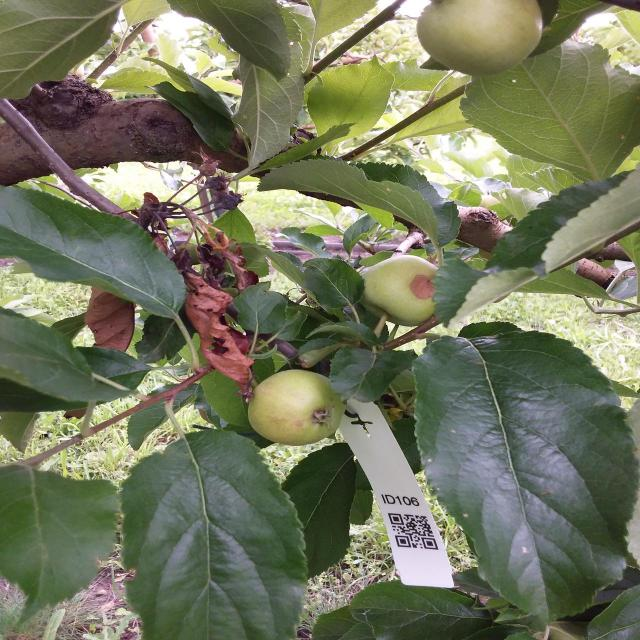-FireBlight-: (137, 190, 260, 389), (86, 288, 138, 353)
